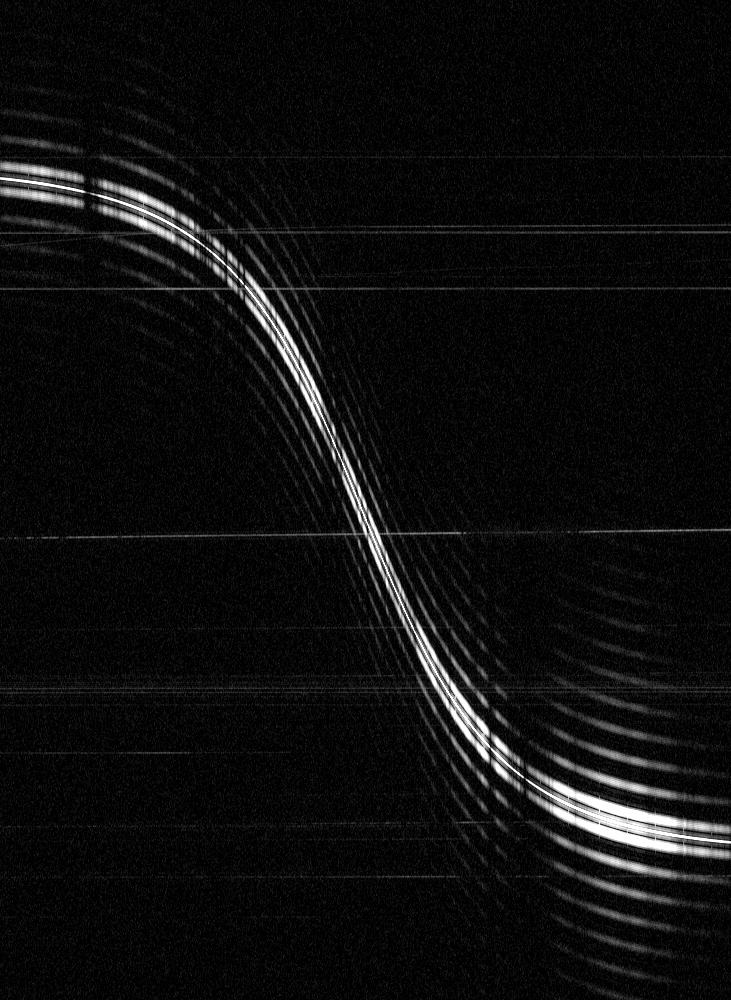signal: (0, 0, 730, 999)
